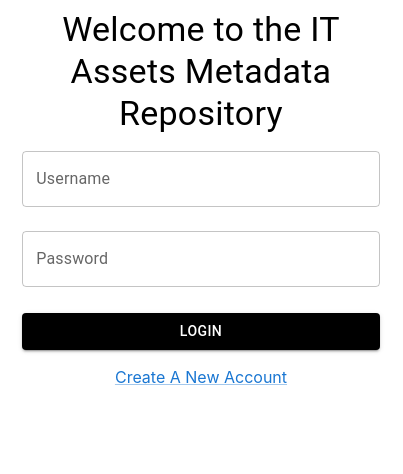
Test: Login Component › should display error message for invalid login
Click the button "Login" at point(201, 332), box left=22, top=313, right=379, bottom=350
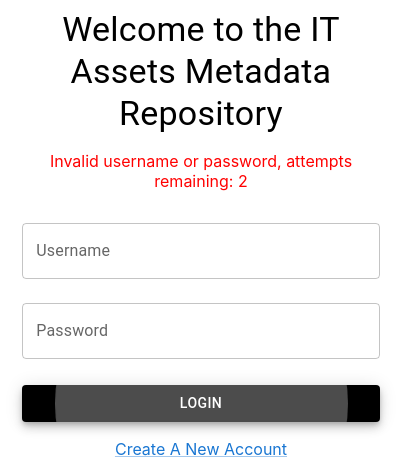
Expected: the text "Invalid username or password, attempts remaining: 2" is shown, left=50, top=151, right=352, bottom=191
